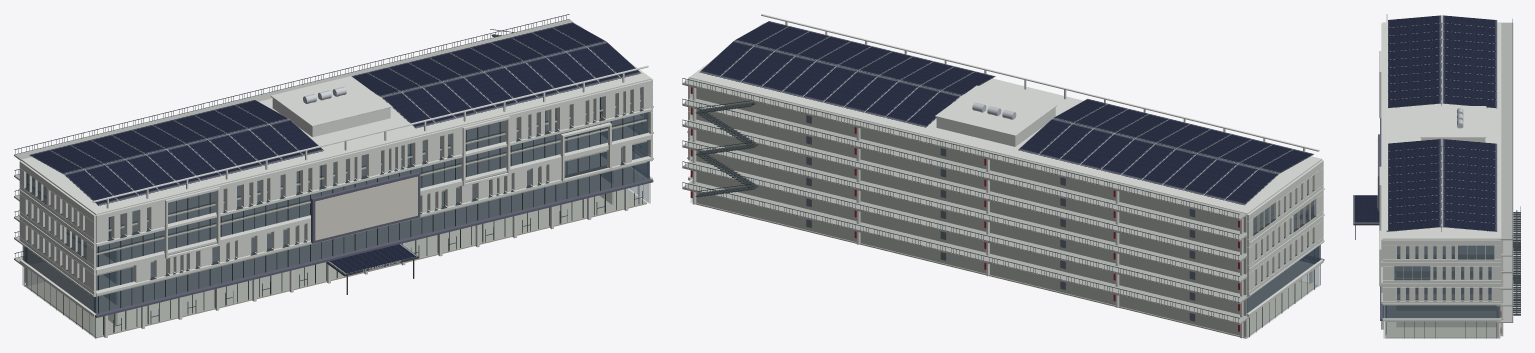
The model's file is building-578abef2f86d.glb.
3 views of the same model, side by side, from view 1: azimuth 30°, elevation 25°; view 2: azimuth 150°, elevation 25°; view 3: azimuth 270°, elevation 25° (orthographic). The views are drawn at different scales.
Parts seen in each view (by area): view 1: Cool-white mineral facade cladding, Recessed neutral structural surfaces — illustrative, Deep blue photovoltaic cells, Charcoal navy violet reflective glazing, Graphite aluminium mullions and railings, Cool grey reflective storefront glass, Blank off-white central billboard, Grey violet fascia and billboard frame, Rear pale grey concrete; view 2: Rear pale grey concrete, Deep blue photovoltaic cells, Cool-white mineral facade cladding, Graphite aluminium mullions and railings, Recessed neutral structural surfaces — illustrative, Charcoal navy violet reflective glazing, Cool grey reflective storefront glass, Red rear fire cabinets; view 3: Deep blue photovoltaic cells, Cool-white mineral facade cladding, Recessed neutral structural surfaces — illustrative, Rear pale grey concrete, Charcoal navy violet reflective glazing, Cool grey reflective storefront glass, Graphite aluminium mullions and railings, Grey violet fascia and billboard frame, Brushed silver horizontal roof tanks.
Part boxes in pixels (left/top/right/bottom): Cool-white mineral facade cladding: left=18, top=24, right=653, bottom=337; Recessed neutral structural surfaces — illustrative: left=25, top=90, right=646, bottom=338; Deep blue photovoltaic cells: left=29, top=22, right=641, bottom=274; Charcoal navy violet reflective glazing: left=22, top=87, right=649, bottom=313; Graphite aluminium mullions and railings: left=14, top=14, right=650, bottom=338; Cool grey reflective storefront glass: left=22, top=183, right=649, bottom=338; Blank off-white central billboard: left=315, top=176, right=417, bottom=240; Grey violet fascia and billboard frame: left=95, top=172, right=653, bottom=317; Rear pale grey concrete: left=14, top=19, right=575, bottom=285; Rear pale grey concrete: left=682, top=78, right=1249, bottom=336; Deep blue photovoltaic cells: left=699, top=21, right=1313, bottom=205; Cool-white mineral facade cladding: left=687, top=14, right=1324, bottom=338; Graphite aluminium mullions and railings: left=682, top=31, right=1320, bottom=337; Recessed neutral structural surfaces — illustrative: left=695, top=201, right=1317, bottom=338; Charcoal navy violet reflective glazing: left=690, top=115, right=1320, bottom=321; Cool grey reflective storefront glass: left=691, top=180, right=1320, bottom=338; Red rear fire cabinets: left=690, top=87, right=1239, bottom=331; Deep blue photovoltaic cells: left=1354, top=15, right=1497, bottom=231; Cool-white mineral facade cladding: left=1379, top=14, right=1503, bottom=336; Recessed neutral structural surfaces — illustrative: left=1385, top=246, right=1499, bottom=338; Rear pale grey concrete: left=1496, top=22, right=1513, bottom=337; Charcoal navy violet reflective glazing: left=1383, top=245, right=1500, bottom=318; Cool grey reflective storefront glass: left=1383, top=321, right=1500, bottom=338; Graphite aluminium mullions and railings: left=1353, top=19, right=1520, bottom=338; Grey violet fascia and billboard frame: left=1378, top=118, right=1383, bottom=320; Brushed silver horizontal roof tanks: left=1457, top=107, right=1463, bottom=128.
Bounding box in the file's own units: 113 × 27.95 × 36.76.
Materials: 12 (2 with a texture image).
